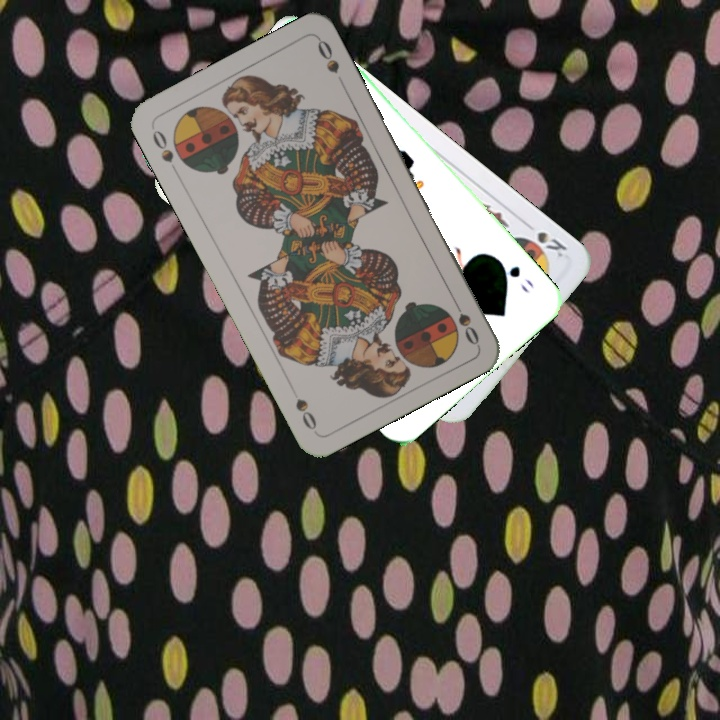GO: (493, 255, 537, 296)
SK: (533, 227, 570, 261)
SO: (447, 292, 482, 348), (148, 125, 177, 166)
